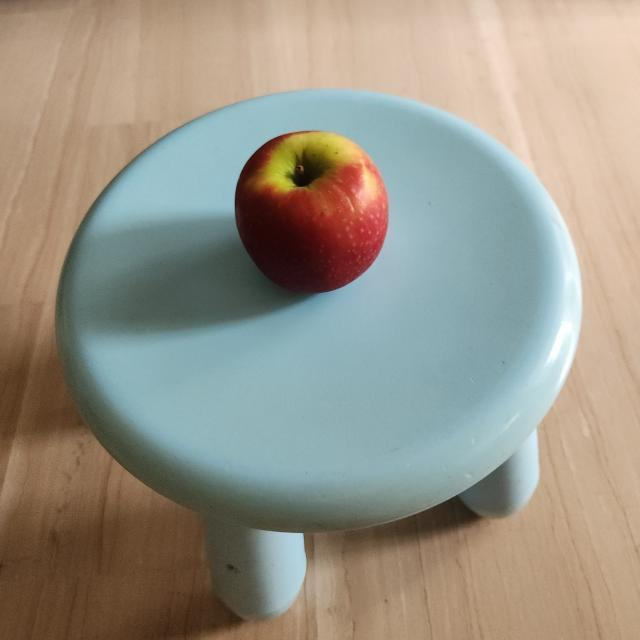apple: (233, 126, 392, 302)
